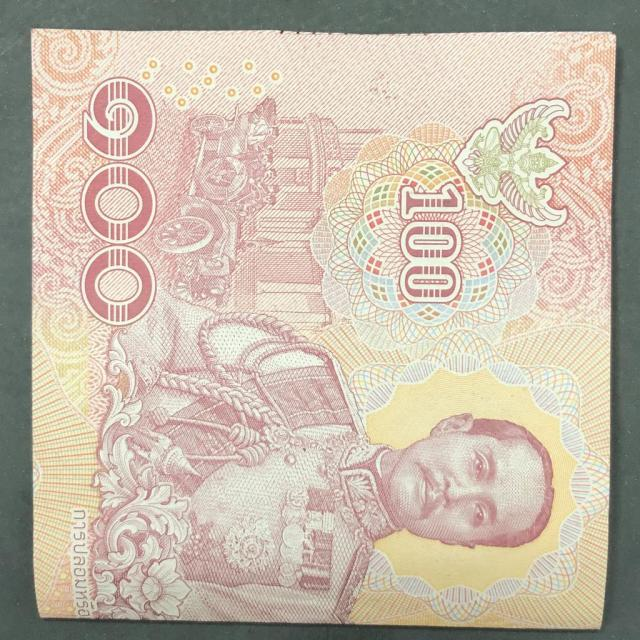THAI100: (32, 31, 614, 629)
